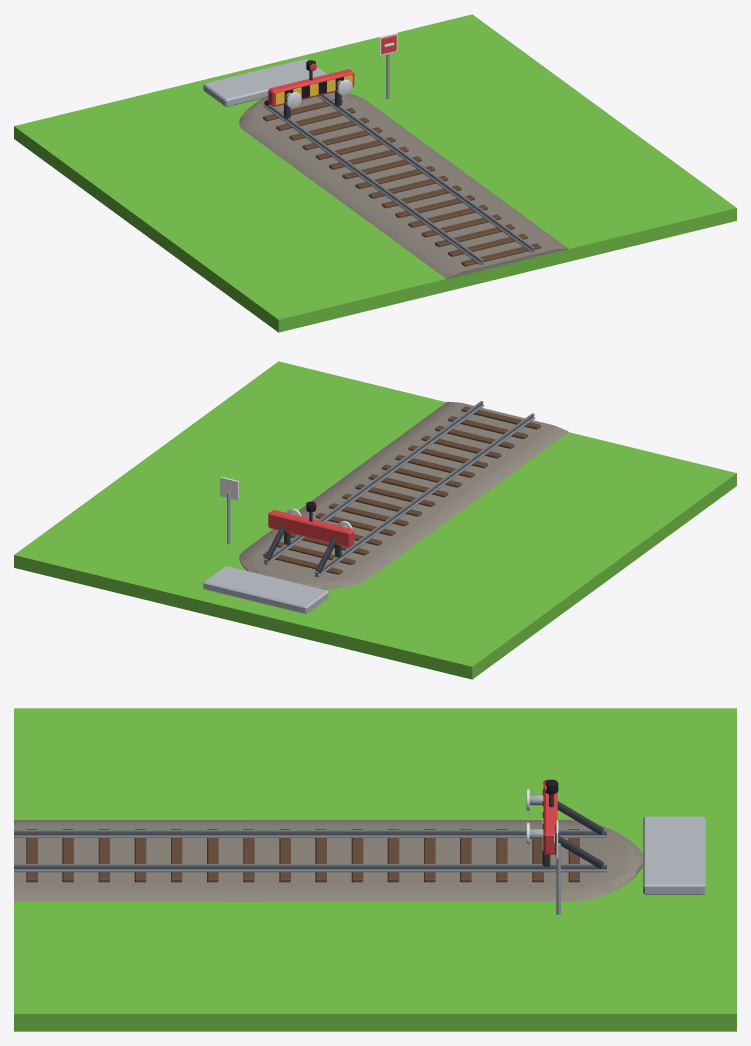
File: trilho_fim.glb
3 renders of one model, top to bottom at view 1: azimuth 30°, elevation 25°; view 2: azimuth 150°, elevation 25°; view 3: azimuth 270°, elevation 25°, orthographic. The views are drawn at different scales.
Visible parts, largest first — view 1: trilho_fim; view 2: trilho_fim; view 3: trilho_fim.
Part boxes in pixels (x1,y1,x2,y2): trilho_fim: (14,14,736,332); trilho_fim: (14,361,736,679); trilho_fim: (14,708,736,1031).
Bounding box in the file's own units: 15 × 2.42 × 15.
1 material, 1 textured.
